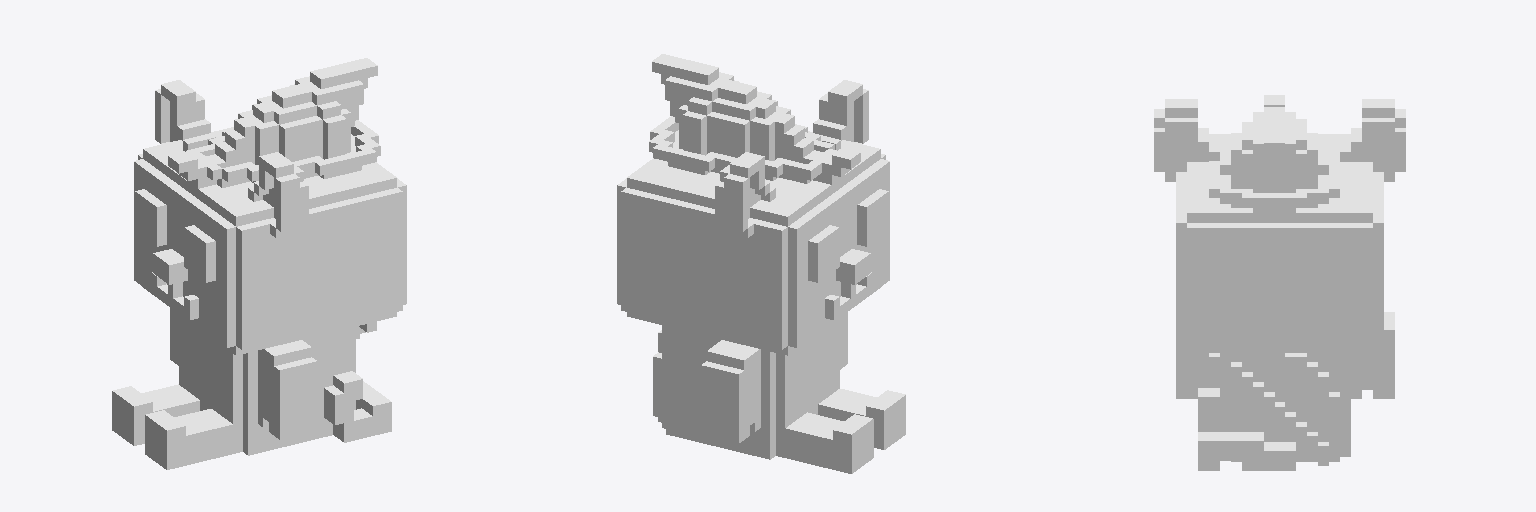
The model's file is archer_cat.obj.
3 views of the same model, side by side, from view 1: azimuth 30°, elevation 25°; view 2: azimuth 150°, elevation 25°; view 3: azimuth 270°, elevation 25° (orthographic).
Visible parts, largest first — view 1: object 1; view 2: object 1; view 3: object 1.
Boxes of the visible parts, box(x1,y1,x2,y2) form: object 1: box(112, 58, 406, 469); object 1: box(617, 54, 905, 473); object 1: box(1154, 95, 1405, 470).
Size of the model in its own units: 2.4 by 3.4 by 2.3.